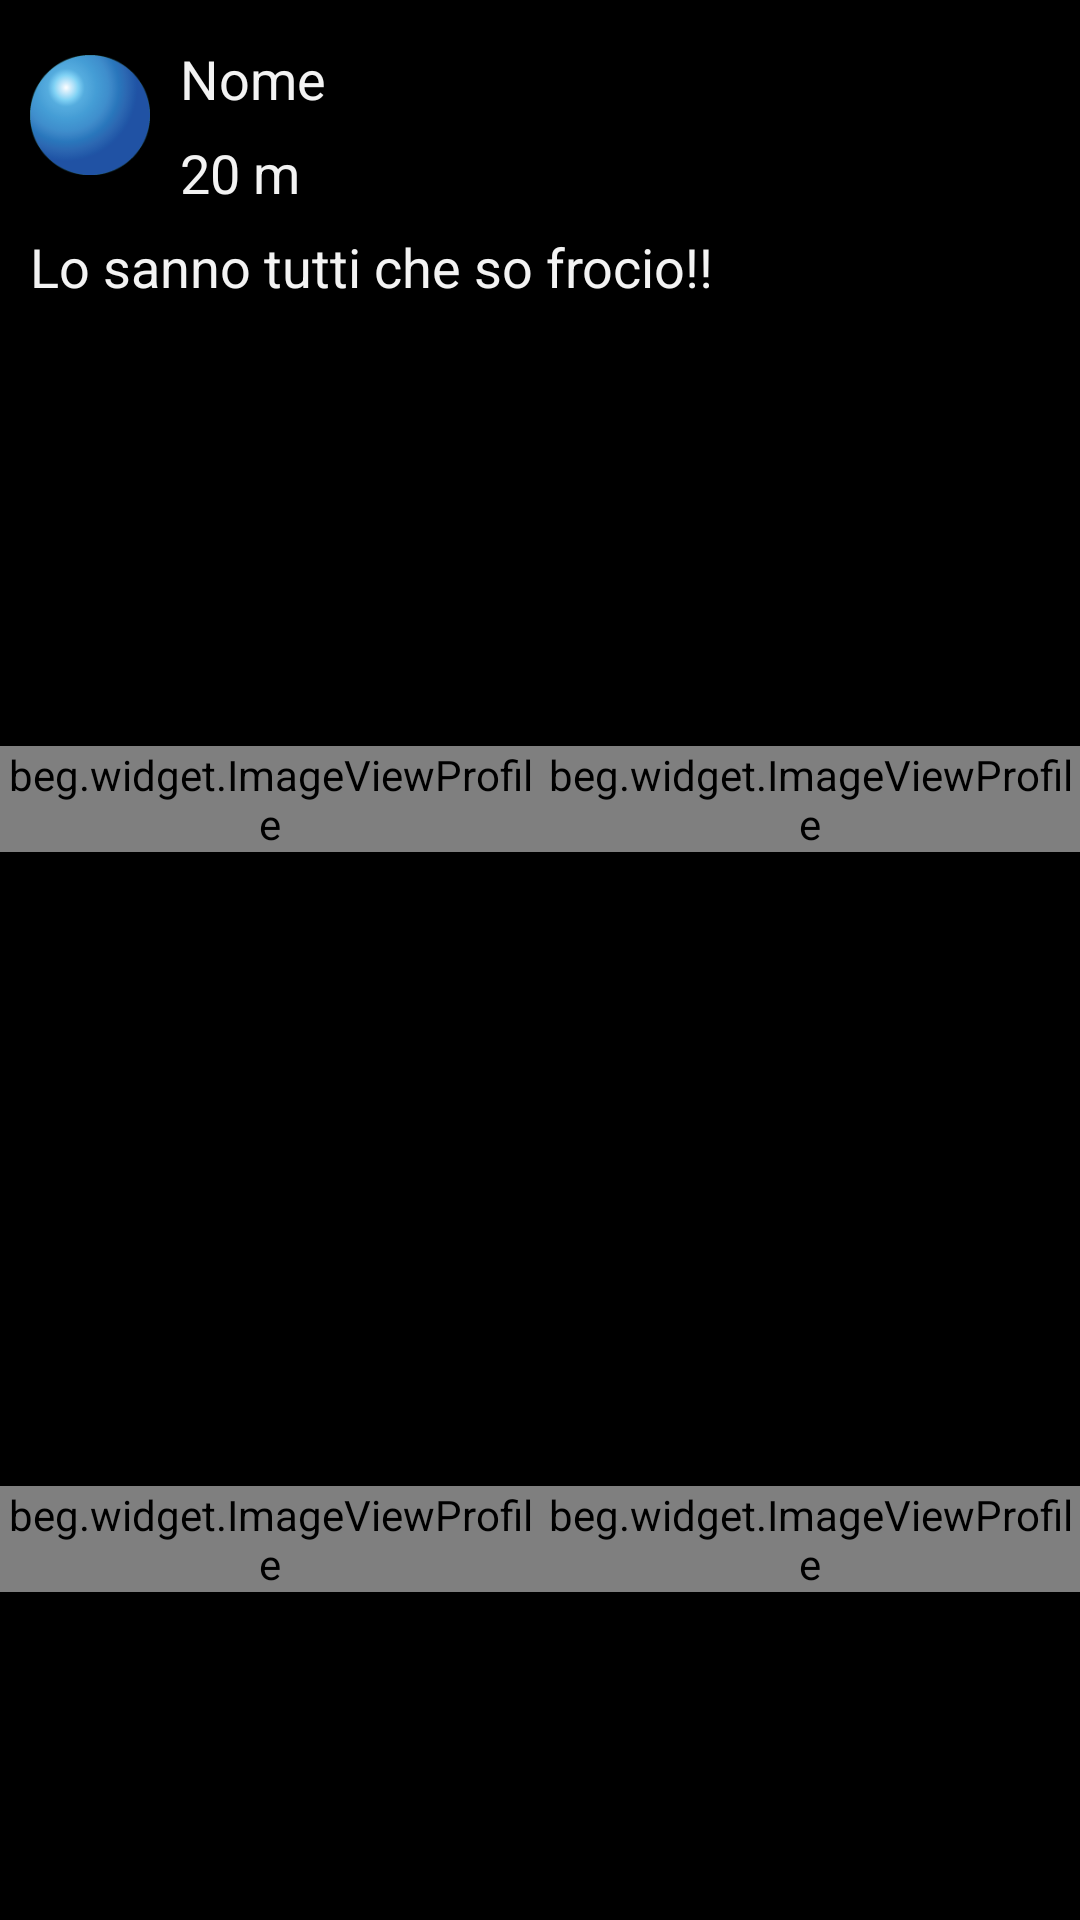

Screen size 1080w x 1920h. Icon name, then its box in pixels as (x1, y1, x2, y2):
sphere: (30, 55, 150, 175)
